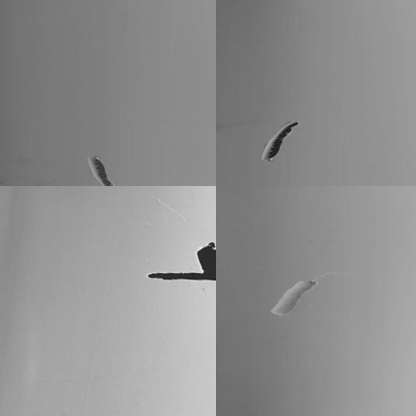fengxi: (146, 270, 218, 282)
kongdong: (258, 114, 309, 164), (85, 152, 116, 186), (195, 239, 221, 270)
sunshang: (266, 272, 319, 319)
